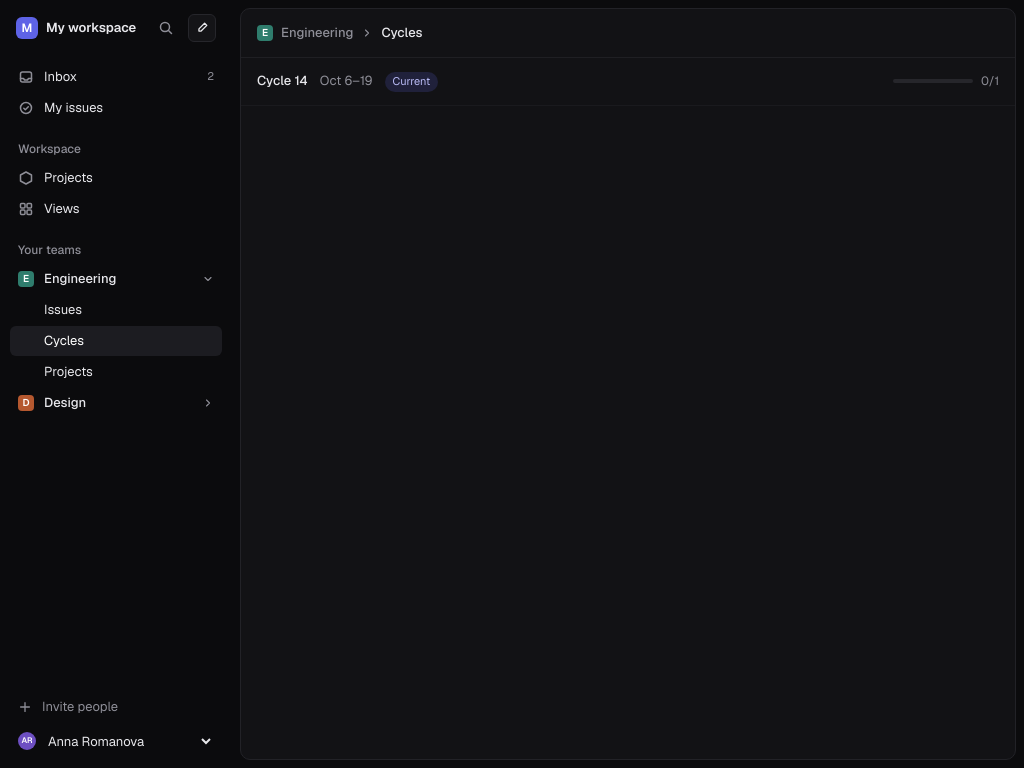
Test case: CyclesPage › lists the team's cycles and opens one
Click the link "Cycle 14 Oct 6–19 Current 0/1" at (276, 81), box [241,58,1015,106]
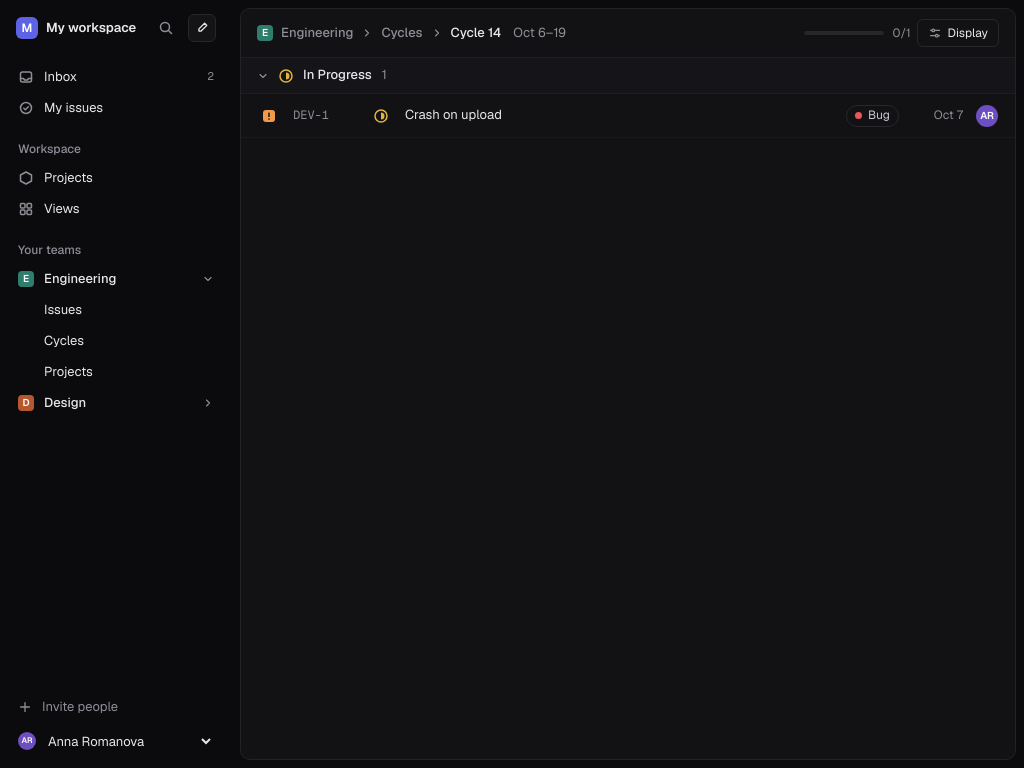
expect the link "Crash on upload" is shown: met, box [405,106,502,123]
